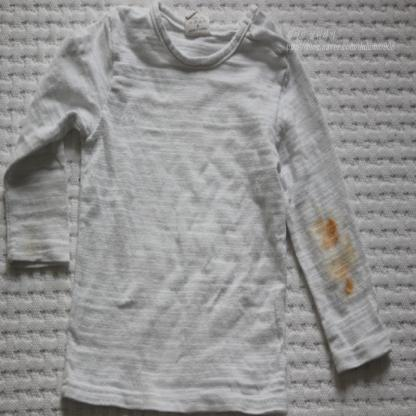kimchi: (310, 210, 365, 300), (320, 216, 342, 243), (345, 273, 363, 299)
